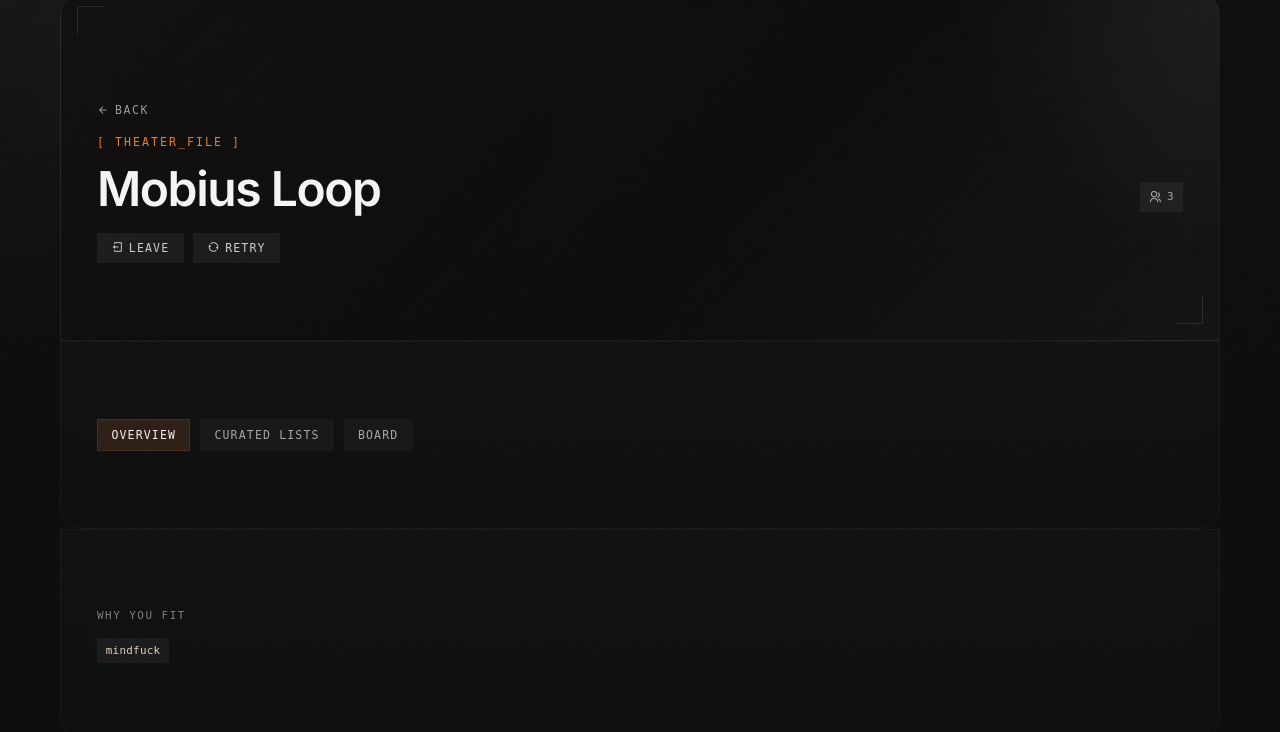
Test case: TheaterDetailPage › reorders list items
Click the tab "Curated Lists".
click(267, 435)  # box top-left (200, 419), bottom-right (334, 451)
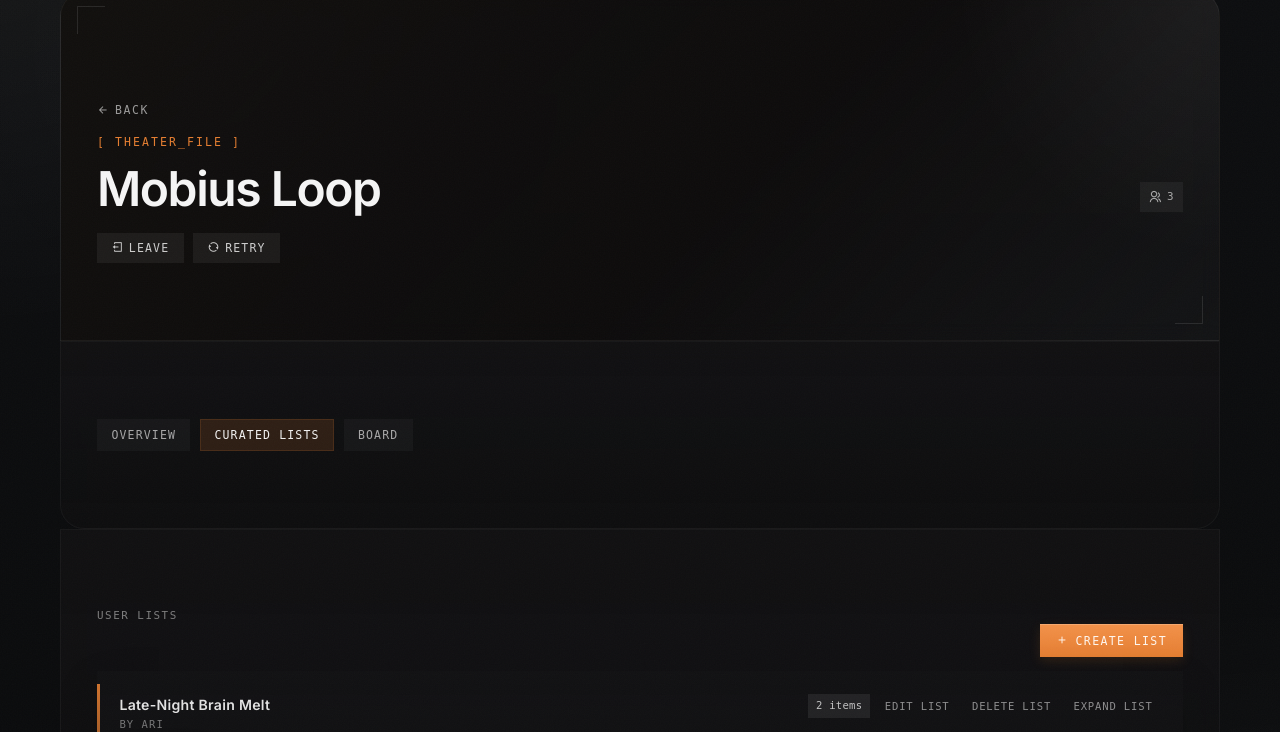
Check: the text "Late-Night Brain Melt" is shown, box top-left (119, 694), bottom-right (270, 716)
Click the button "Expand List".
click(1113, 706)  # box top-left (1066, 695), bottom-right (1161, 716)
(page scrolled)
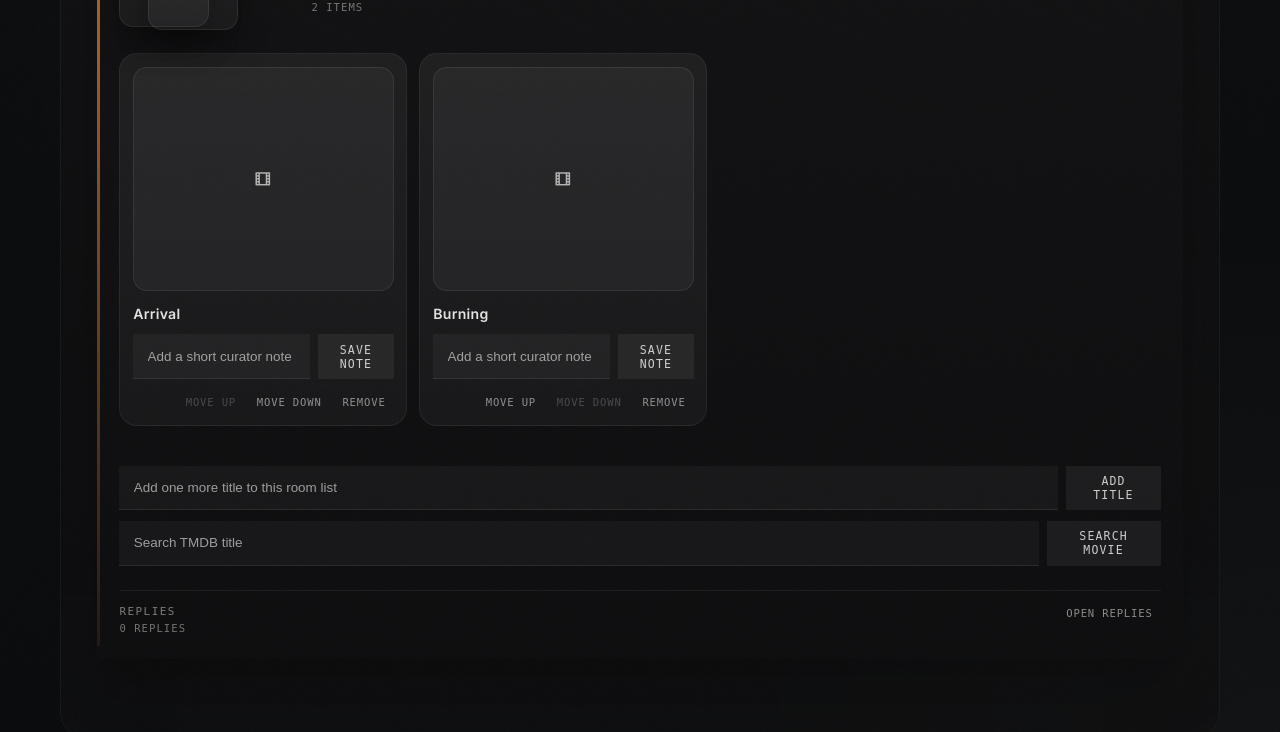
Click the button "Move Up" below "Burning".
click(511, 402)  # box top-left (478, 391), bottom-right (544, 412)
(page scrolled)
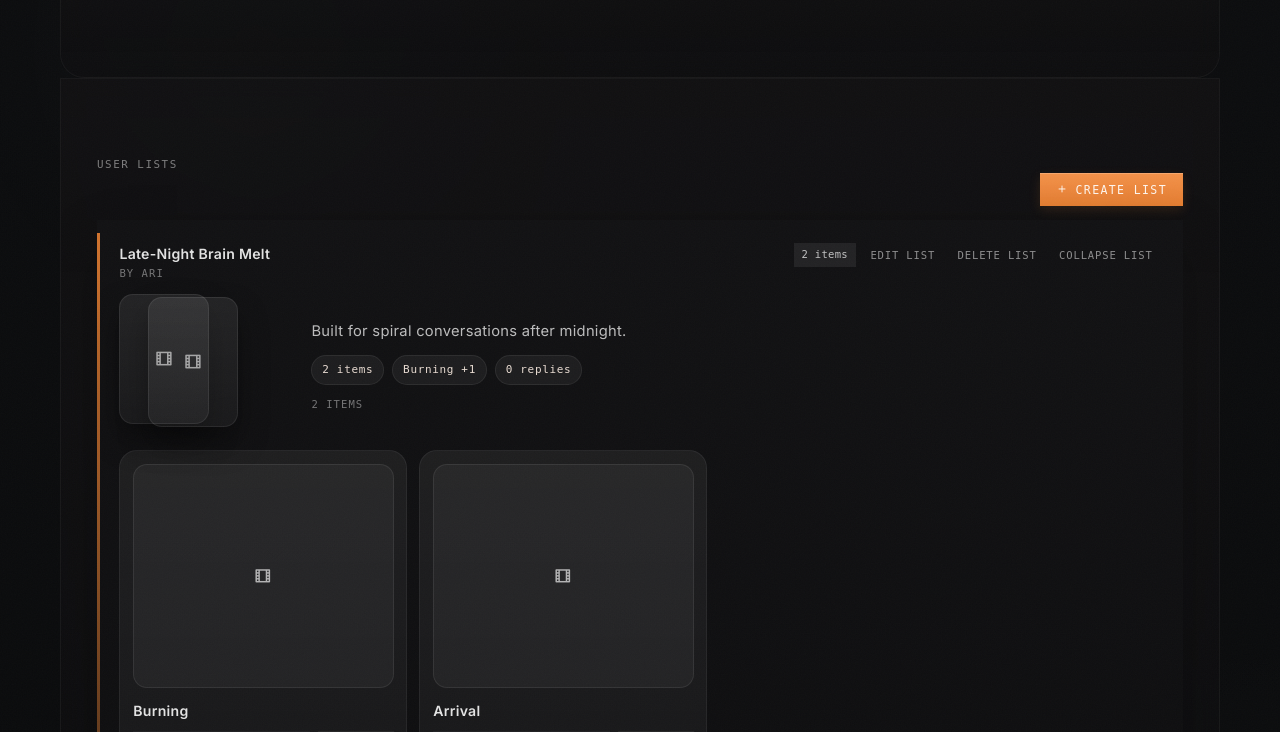
Check: the text "Burning +1" is shown, box top-left (392, 354), bottom-right (487, 385)
